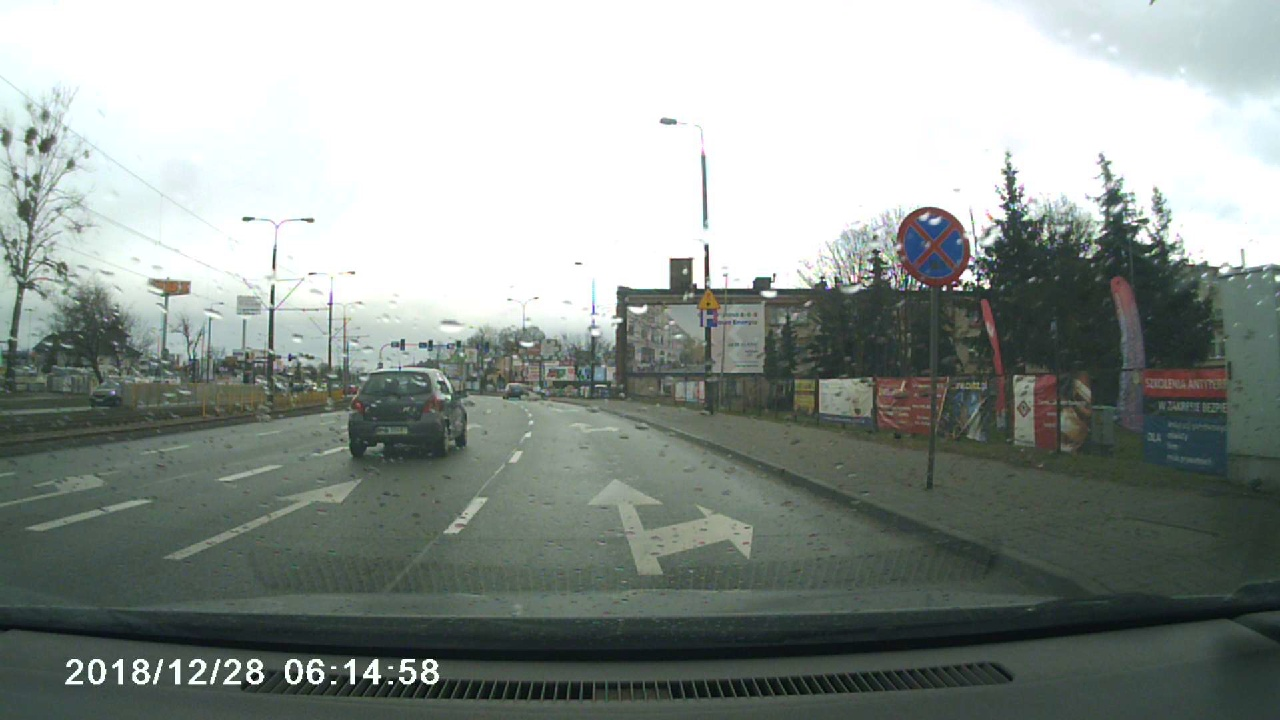B35: (894, 204, 974, 287)
